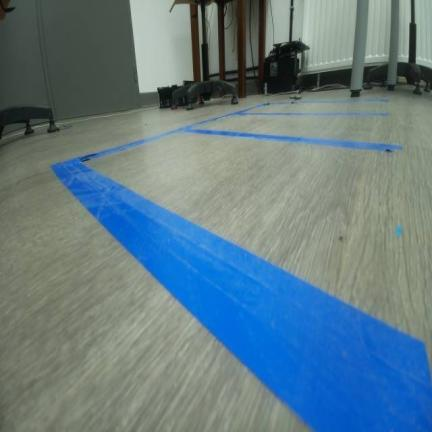place: (51, 124, 428, 429), (180, 109, 395, 151), (234, 99, 389, 116)
